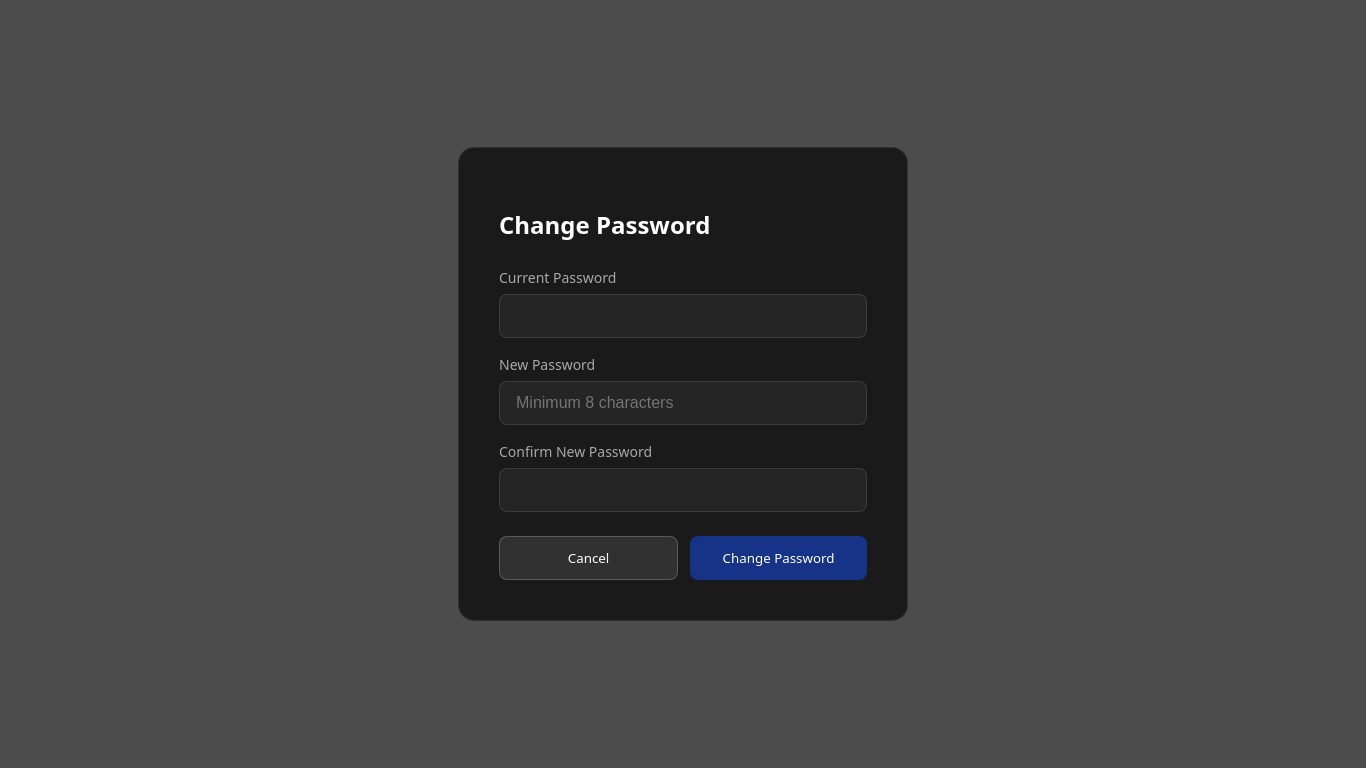
Test: ChangePasswordWizard — submit success › shows the success step after the password is changed
The image size is (1366, 768).
In the password field below "Current Password": (683, 316) [499, 294, 867, 338], type "old-password"
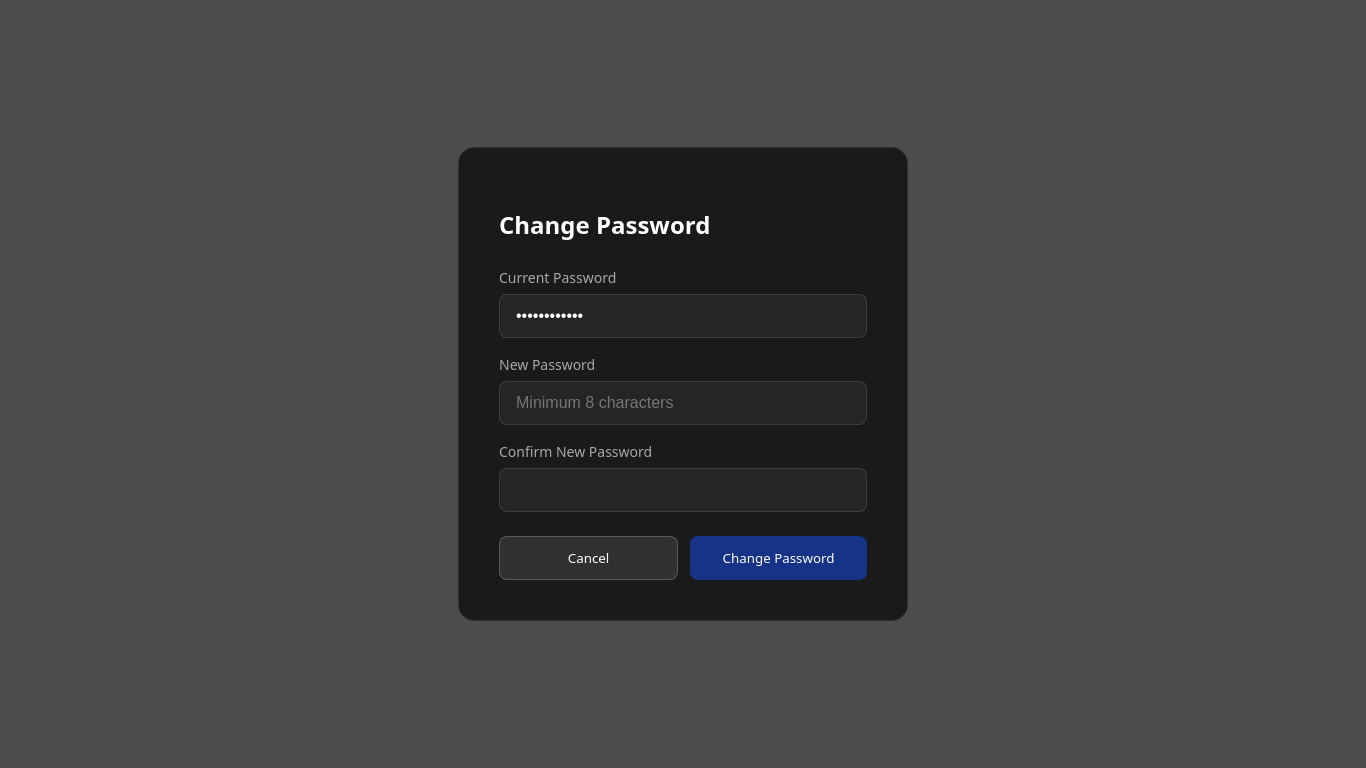
In the password field with placeholder "Minimum 8 characters": (683, 404) [499, 382, 867, 426], type "new-password-123"
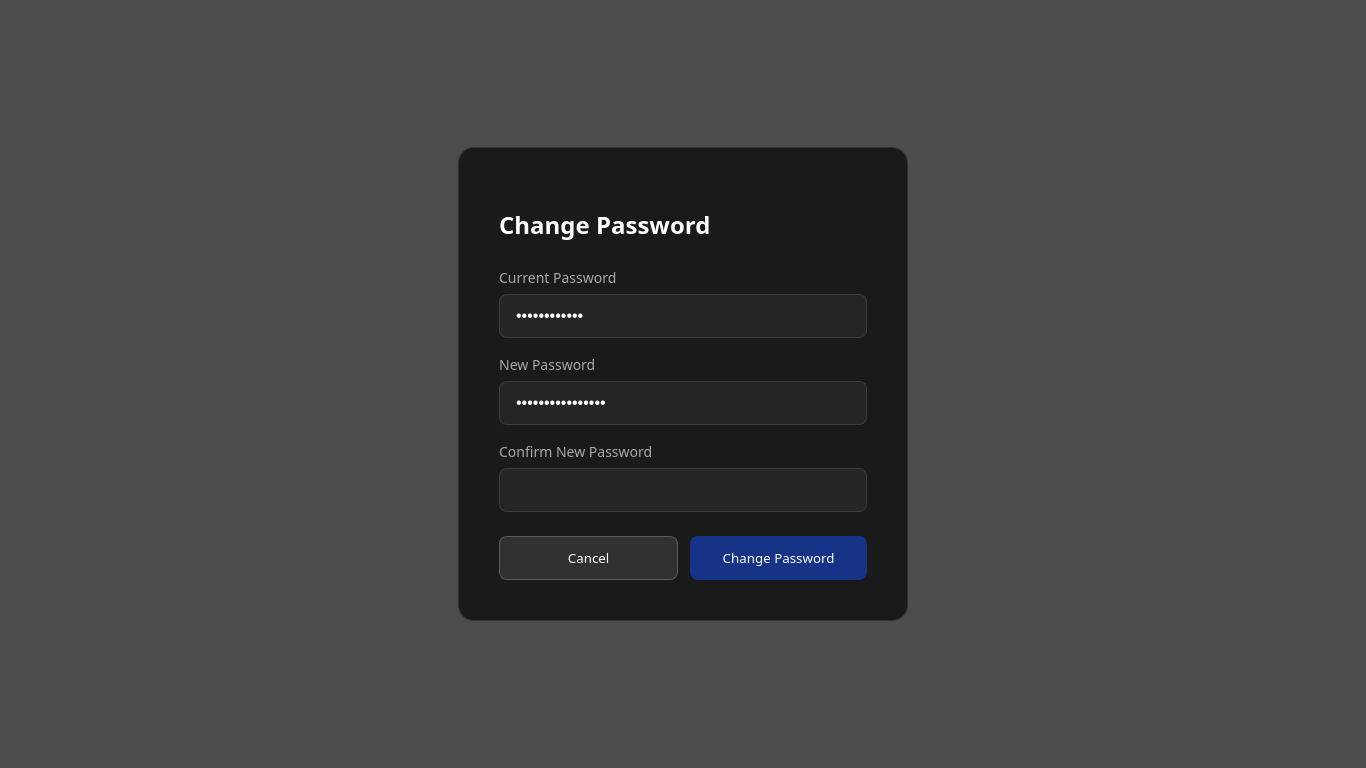
In the password field below "Confirm New Password": (683, 490) [499, 468, 867, 512], type "new-password-123"
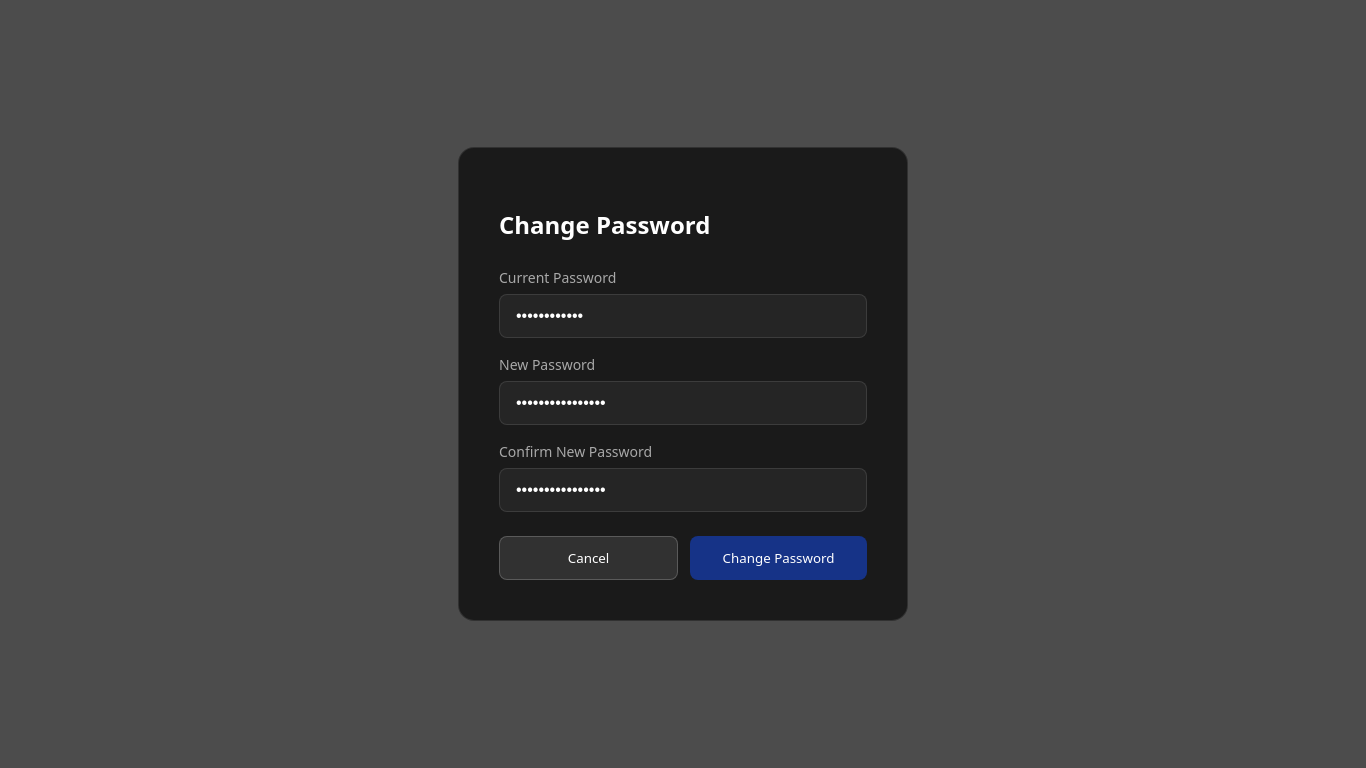
Click the button "Change Password": (778, 558) [690, 536, 867, 580]
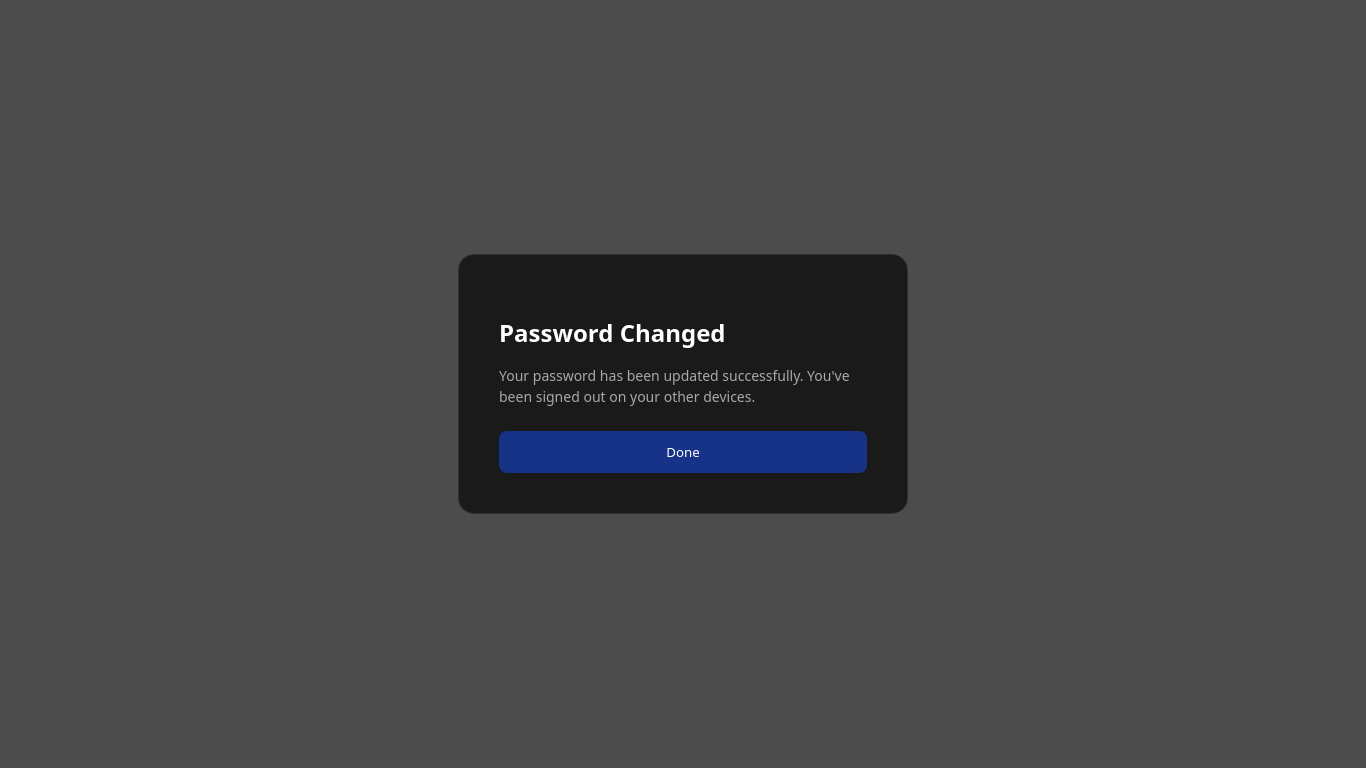
Check: the heading "Password Changed" is shown, box [499, 316, 726, 349]
Check: the text "Your password has been updated successfully" is shown, box [499, 366, 850, 406]
Check: the button "Done" is shown, box [499, 431, 867, 473]
